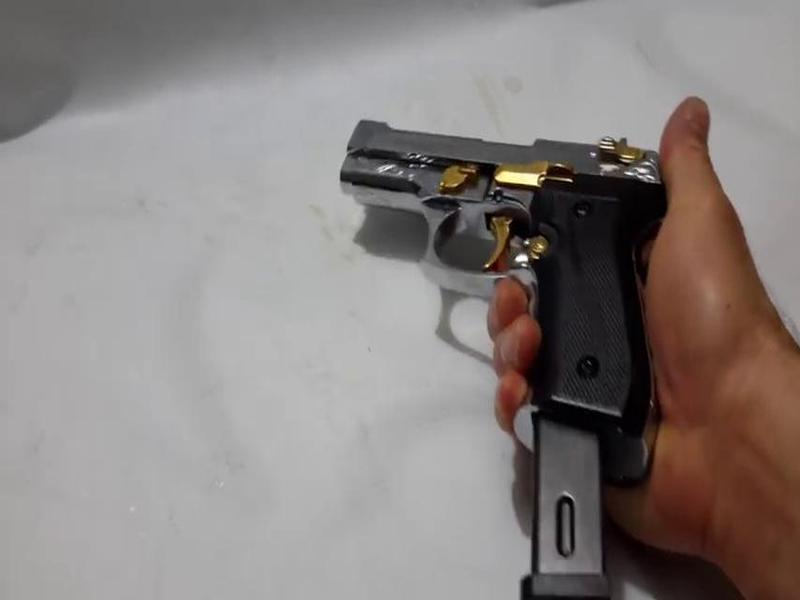Pistola: (333, 104, 688, 442)
